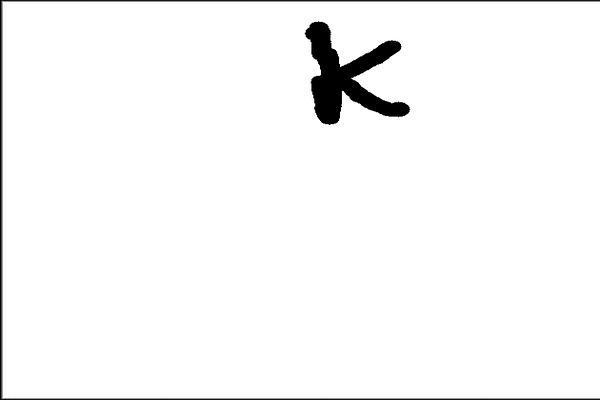K: (298, 15, 416, 133)
